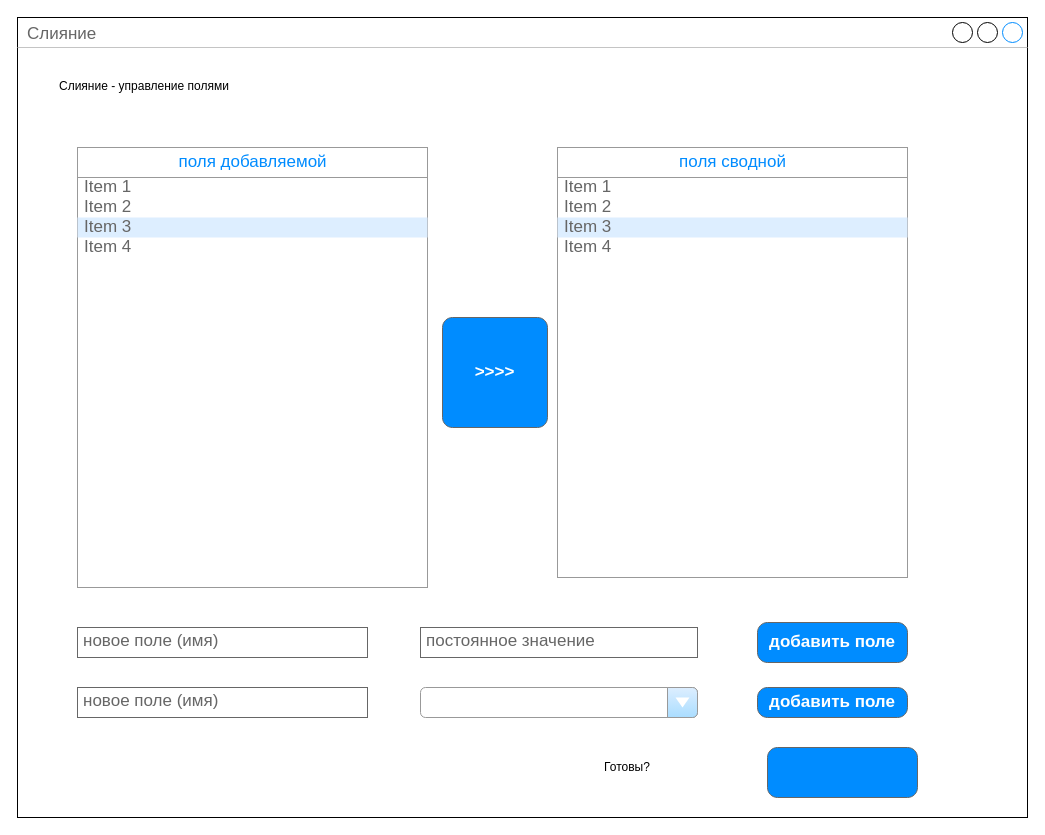
Image size: 1045x835. Some labels were removed from this diagram. The centre of each missing label's shape, as x and y in pixels:
выбираемое правило заполнения: [559,702]
выполнить слияние!: [842,772]
